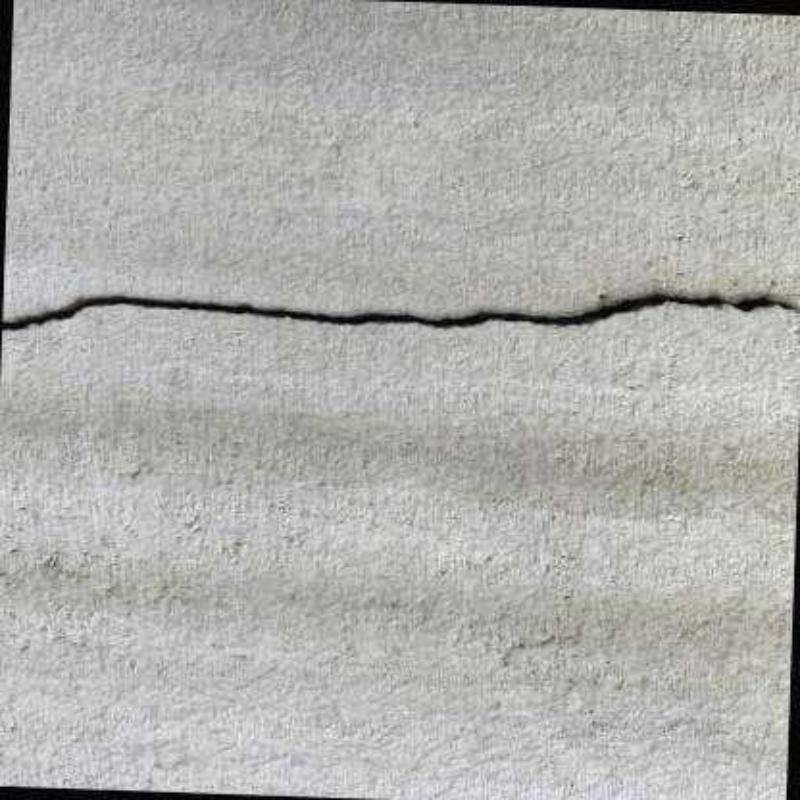pothole: (4, 289, 800, 332)
